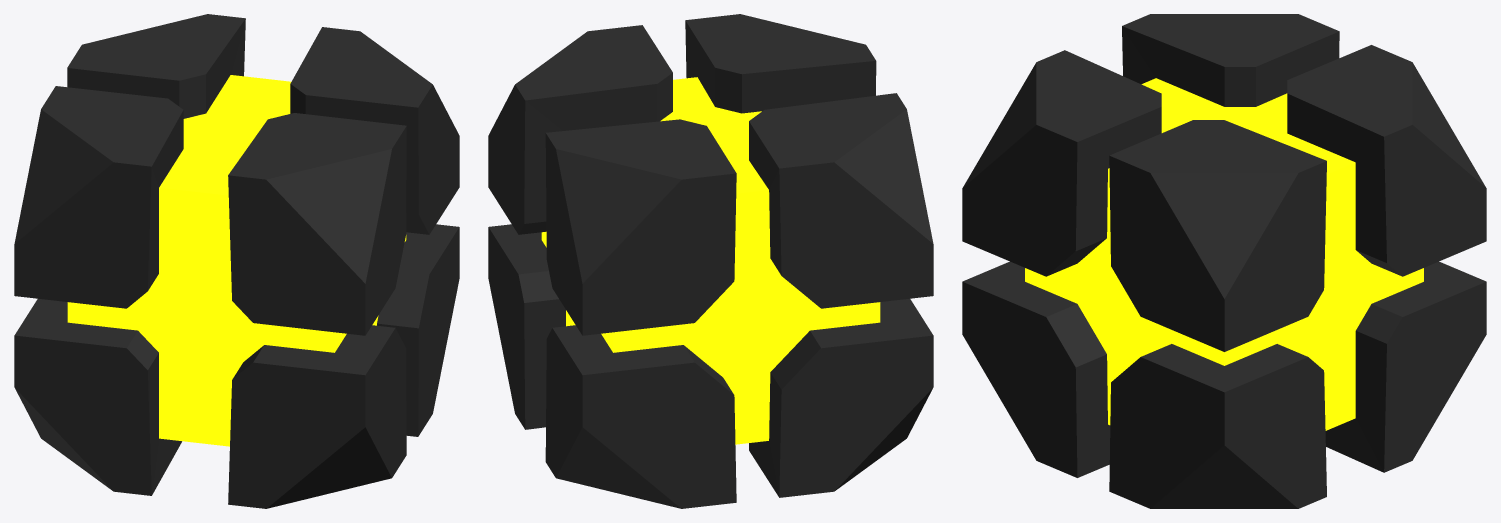
File: stack-chemical-pack.glb
3 renders of one model, left to right at view 1: azimuth 30°, elevation 25°; view 2: azimuth 150°, elevation 25°; view 3: azimuth 270°, elevation 25°, orthographic. The views are drawn at different scales.
Parts seen in each view (by area): view 1: Cube.030; view 2: Cube.030; view 3: Cube.030.
Boxes of the visible parts, x1=… form: Cube.030: x1=14, y1=14, x2=459, y2=508; Cube.030: x1=488, y1=14, x2=933, y2=508; Cube.030: x1=962, y1=14, x2=1486, y2=508.
Size of the model in its own units: 2.5 by 1.76 by 2.5.
1 material, 1 textured.
